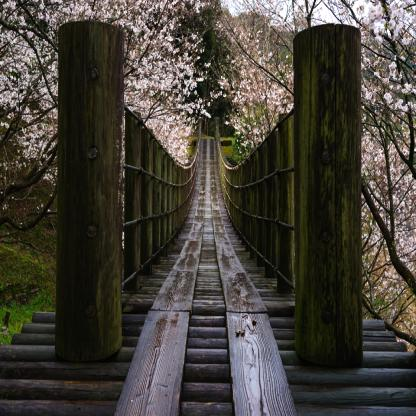Someiyoshino: (218, 3, 415, 339), (0, 3, 188, 188)
